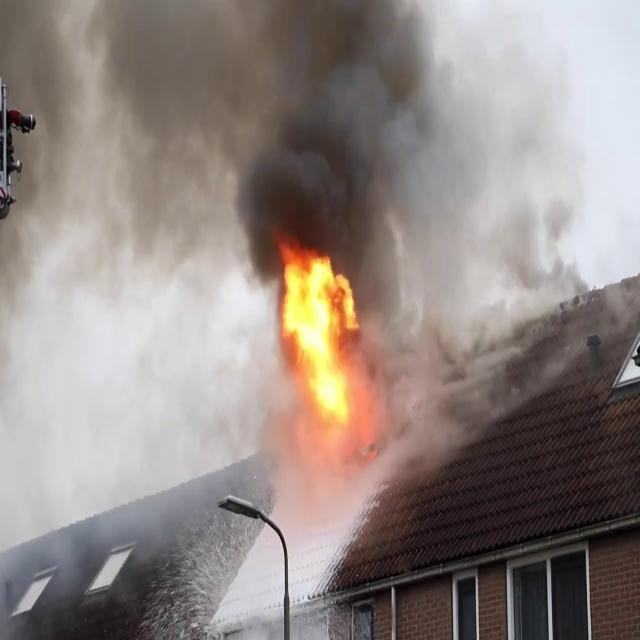Fire: (276, 244, 368, 434)
Smoke: (80, 1, 608, 298), (363, 0, 602, 475)
